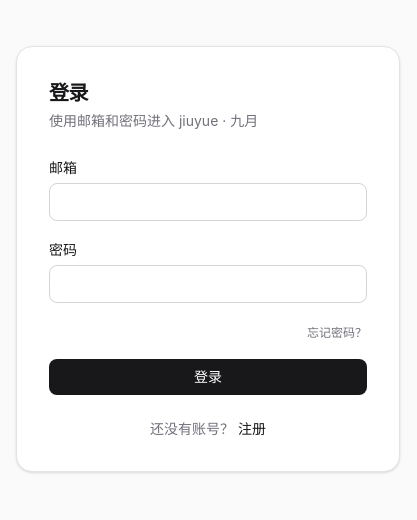
Test: LoginView › shows no retry hint for an ordinary rejection
Type "alice@example.com" into the field labelled "邮箱" at (208, 202), box [49,183,367,221]
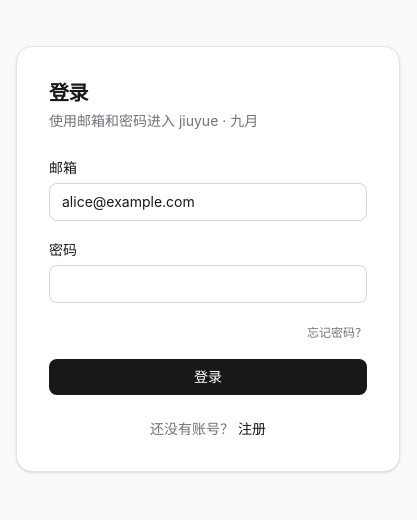
Type "secret123" into the password field labelled "密码" at (208, 284), box [49,265,367,303]
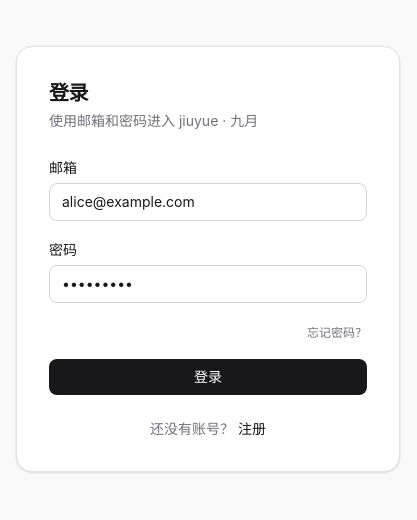
Submit the form, box [49,155,367,395]
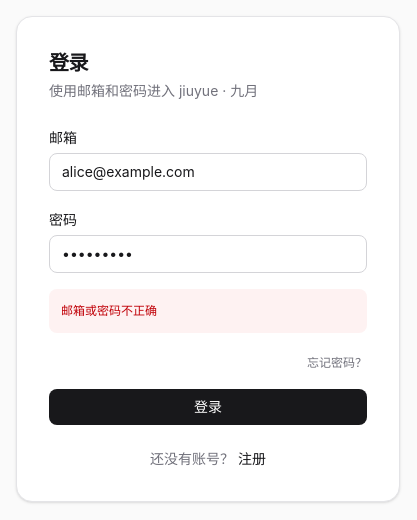
Now the text with test id "form-error" reads "邮箱或密码不正确", box [61,303,157,318]
